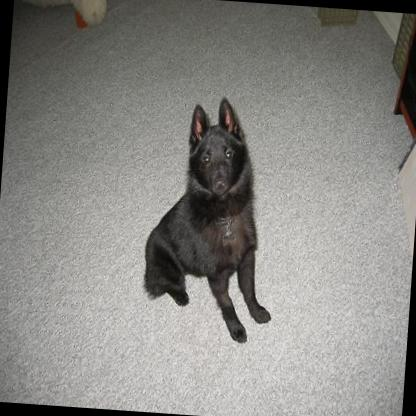schipperke: (139, 91, 284, 353)
